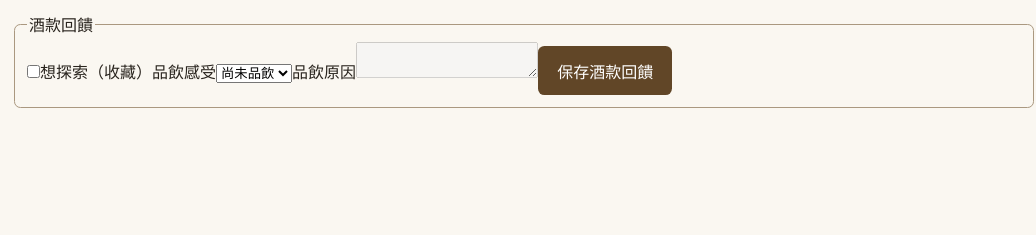
Test: a known revision rejection reloads current feedback before another edit
Click the checkbox labelled "想探索（收藏）".
click(34, 71)  # box [27,65,40,78]
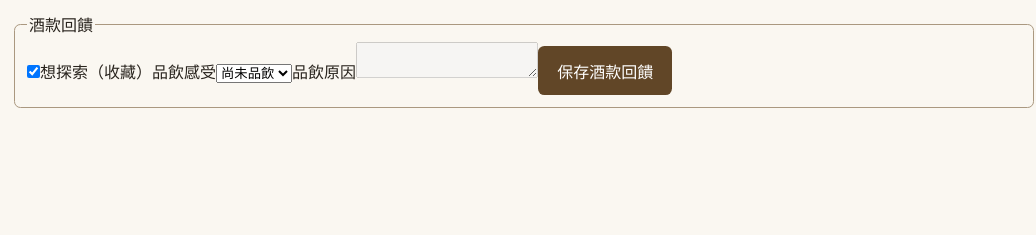
Click the button "保存酒款回饋".
click(605, 71)  # box [538,46,672,95]
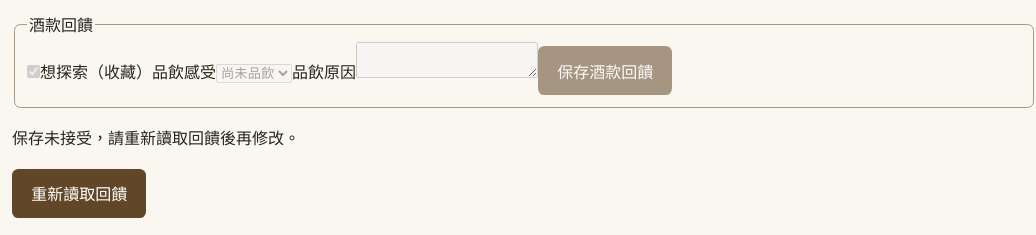
Click the button "重新讀取回饋".
click(79, 193)  # box [12,169,146,218]
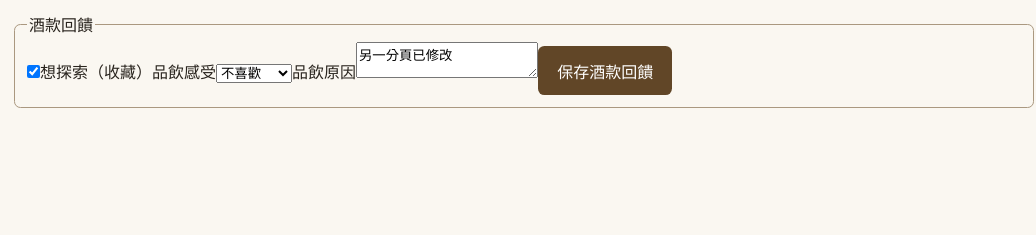
Check: the text box labelled "品飲原因" holds "另一分頁已修改", box [356,42,538,78]
